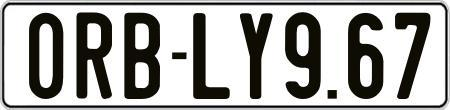0: (27, 10, 62, 99)
6: (345, 11, 386, 97)
7: (395, 13, 433, 105)
9: (285, 9, 324, 96)
B: (123, 11, 161, 100)
L: (192, 10, 233, 96)
R: (75, 10, 115, 102)
Y: (237, 11, 273, 101)
